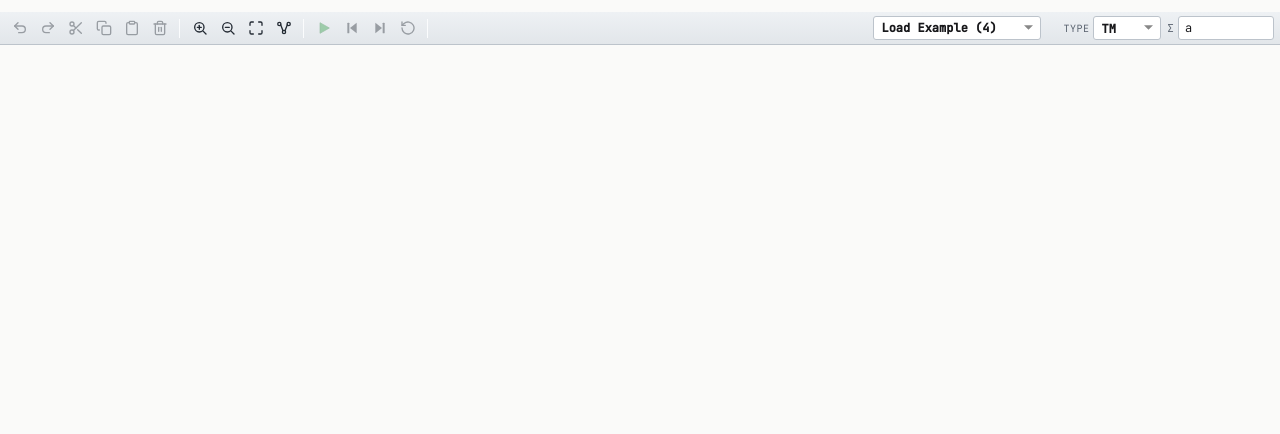
Scenario: hosted demo UI boundary › shows only the original machine types and examples
Click the button "Load Example (4)" at (958, 28), box [874,16,1042,40]
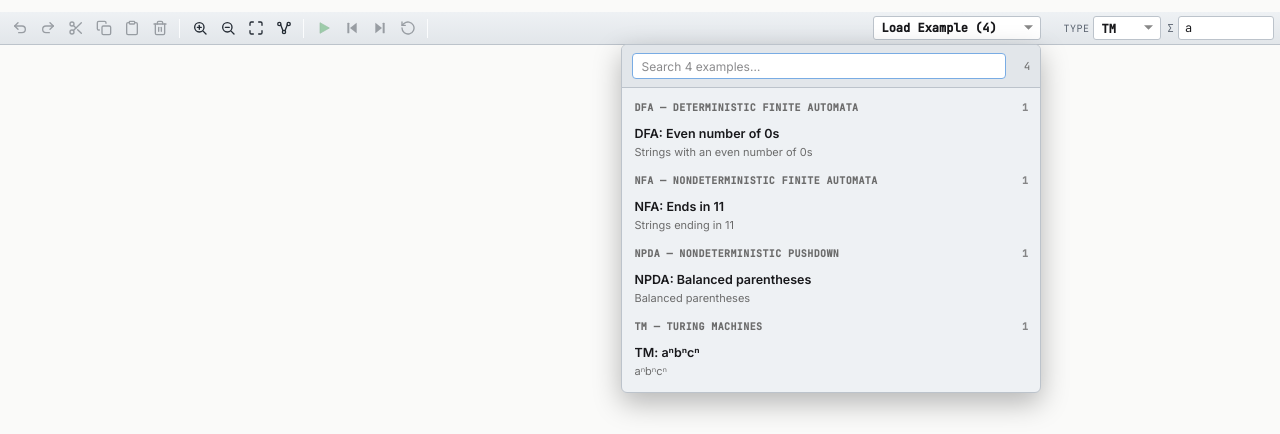
Result: the text "DFA: Even number of 0s" is shown at [634,125,779,144]
Result: the text "NFA: Ends in 11" is shown at [634,198,724,217]
Result: the text "NPDA: Balanced parentheses" is shown at [634,271,811,290]
